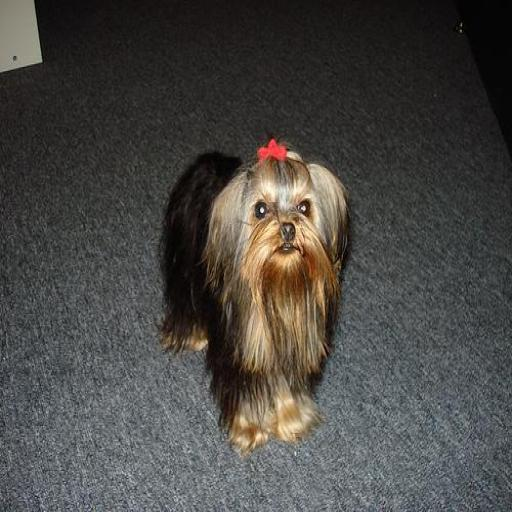dog_face: (222, 146, 328, 288)
